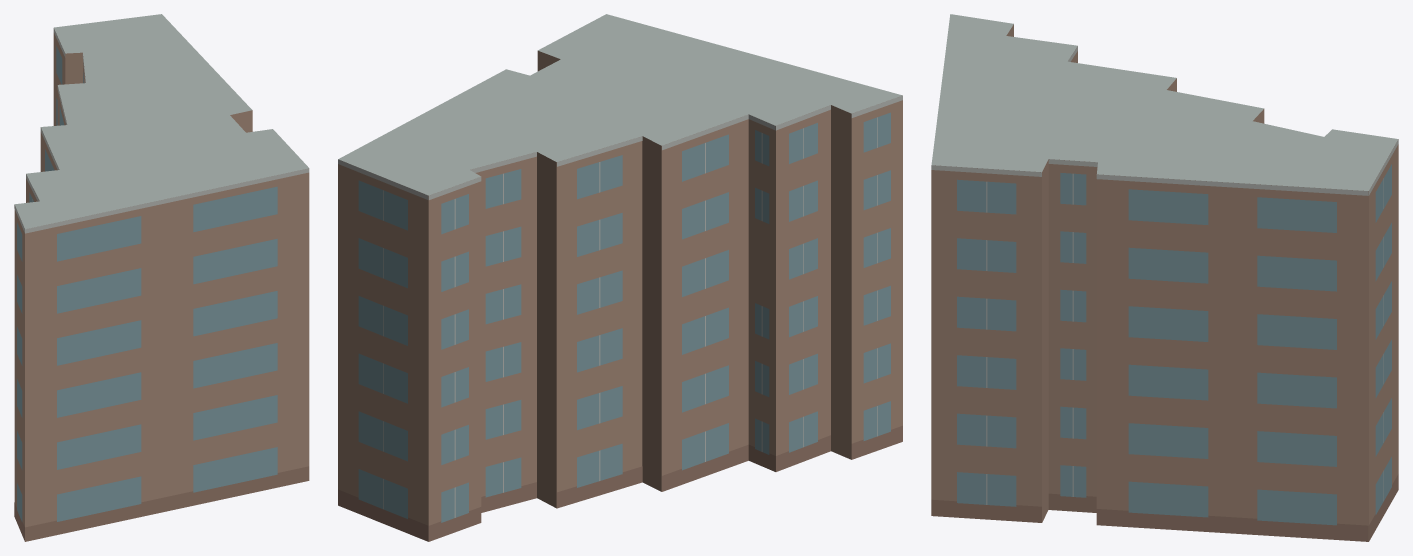
The model's file is survey-upis-32724994.glb.
3 renders of one model, left to right at view 1: azimuth 30°, elevation 25°; view 2: azimuth 150°, elevation 25°; view 3: azimuth 270°, elevation 25°, orthographic. The views are drawn at different scales.
Parts seen in each view (by area): view 1: survey-upis-32724994.tmp; view 2: survey-upis-32724994.tmp; view 3: survey-upis-32724994.tmp.
Boxes of the visible parts, left/top/right/bottom form: survey-upis-32724994.tmp: left=14, top=14, right=309, bottom=541; survey-upis-32724994.tmp: left=338, top=14, right=902, bottom=541; survey-upis-32724994.tmp: left=931, top=14, right=1398, bottom=541.
Size of the model in its own units: 19.39 by 17.9 by 21.61.
